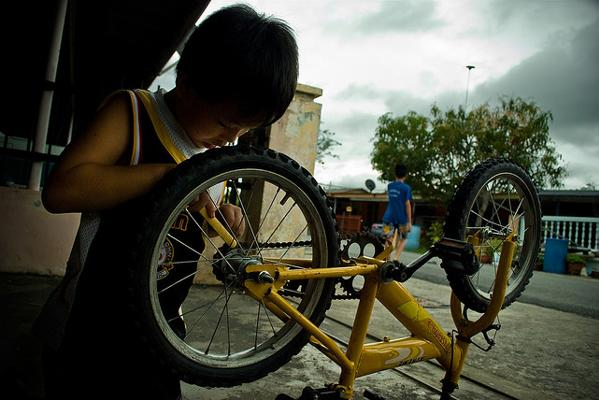person: (37, 2, 300, 399)
